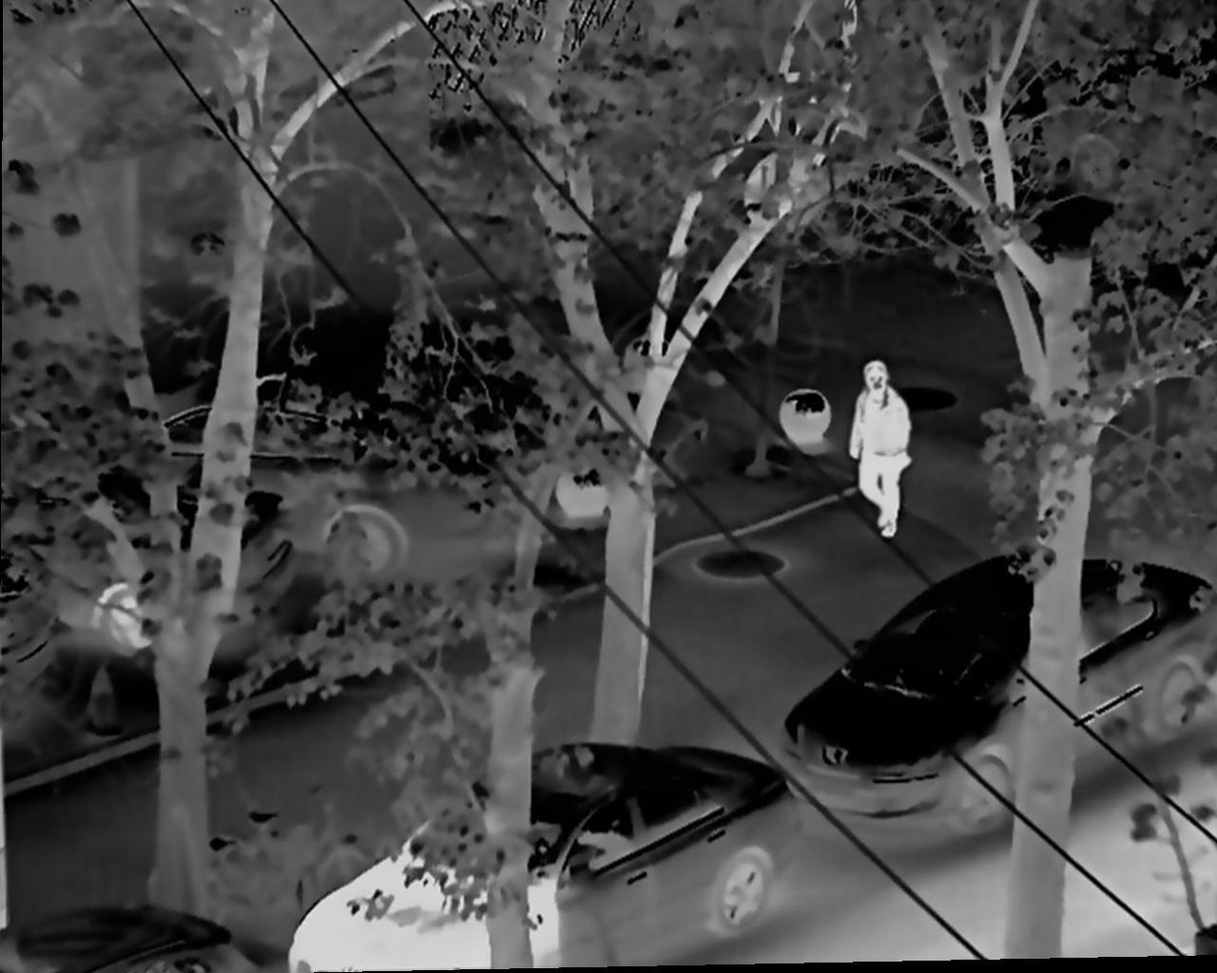person: (841, 360, 917, 544)
